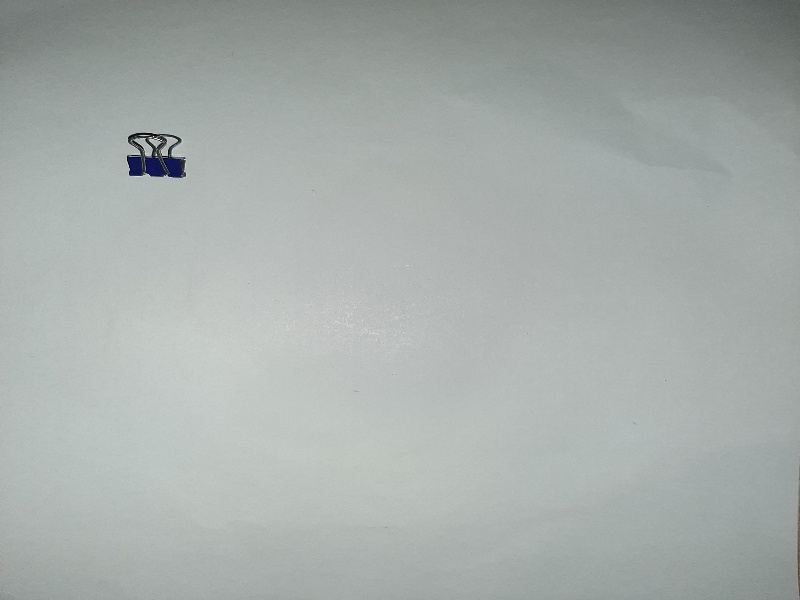Small Paperclip: (122, 125, 192, 188)
